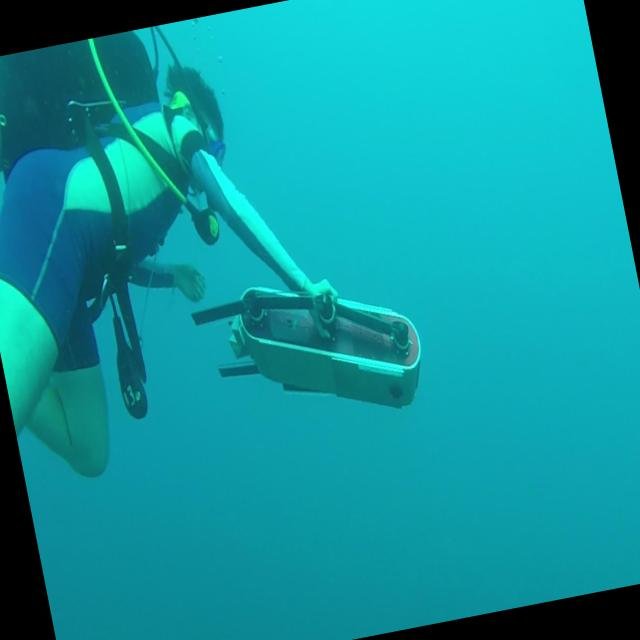human: (0, 1, 364, 490)
